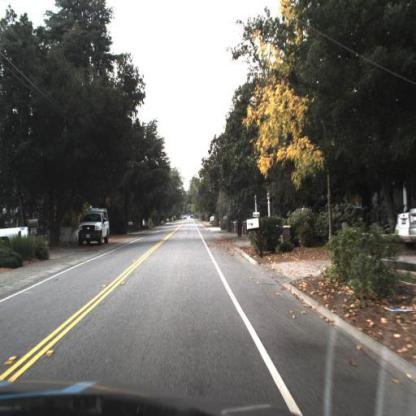car: (76, 202, 111, 252)
pedestrian: (235, 208, 246, 238)
